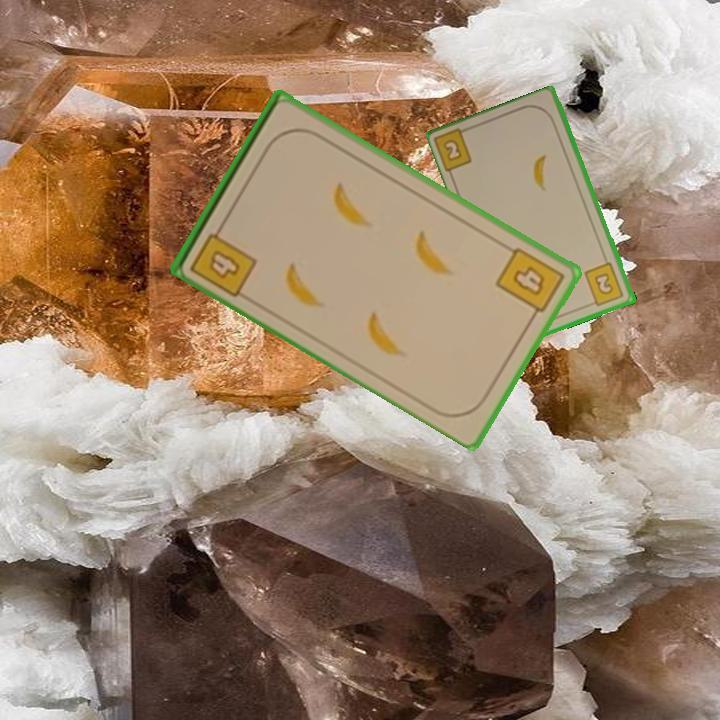2b: (581, 259, 627, 309), (432, 123, 475, 176)
4b: (491, 243, 568, 323), (186, 218, 260, 300)
